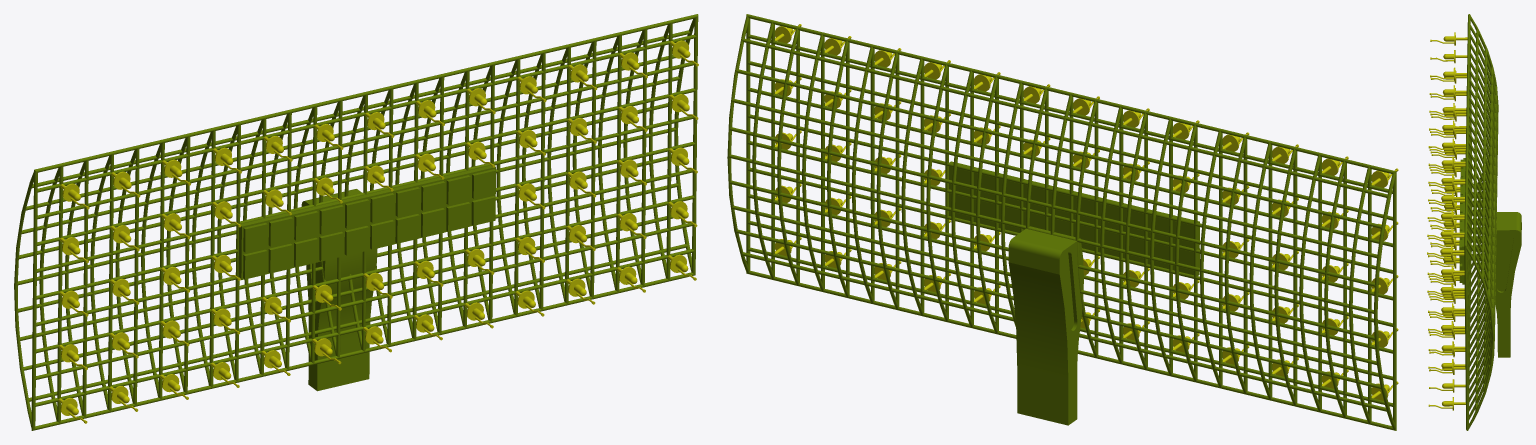
3 views of the same model, side by side, from view 1: azimuth 30°, elevation 25°; view 2: azimuth 150°, elevation 25°; view 3: azimuth 270°, elevation 25° (orthographic). The views are drawn at different scales.
Visible parts, largest first — view 1: Mirror8; view 2: Mirror8; view 3: Mirror8.
Boxes of the visible parts, x1=… form: Mirror8: x1=14, y1=14, x2=698, y2=430; Mirror8: x1=727, y1=14, x2=1398, y2=430; Mirror8: x1=1427, y1=14, x2=1521, y2=430.
Size of the model in its own units: 4.03 by 1.8 by 0.7027.
